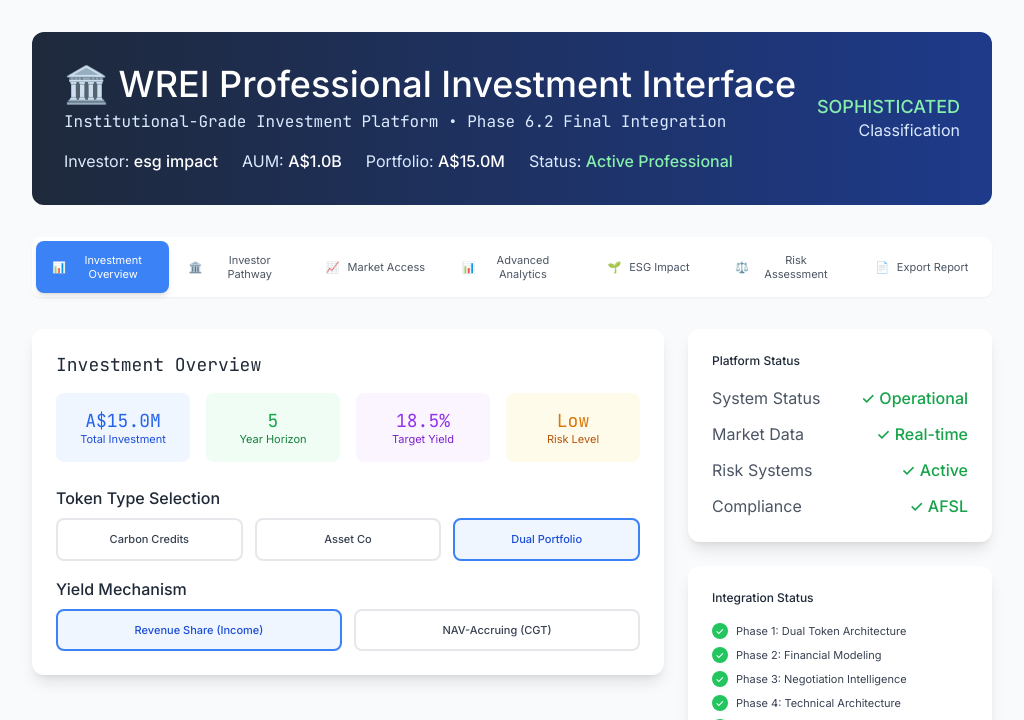
Test: Phase 6.2: UI Integration › investor pathway UI displays correctly for different classifications
What coordinates should you click on to do the following:
click the text "Investor Pathway"
I would click on:
 (250, 267)
Its box is [228, 253, 272, 281].
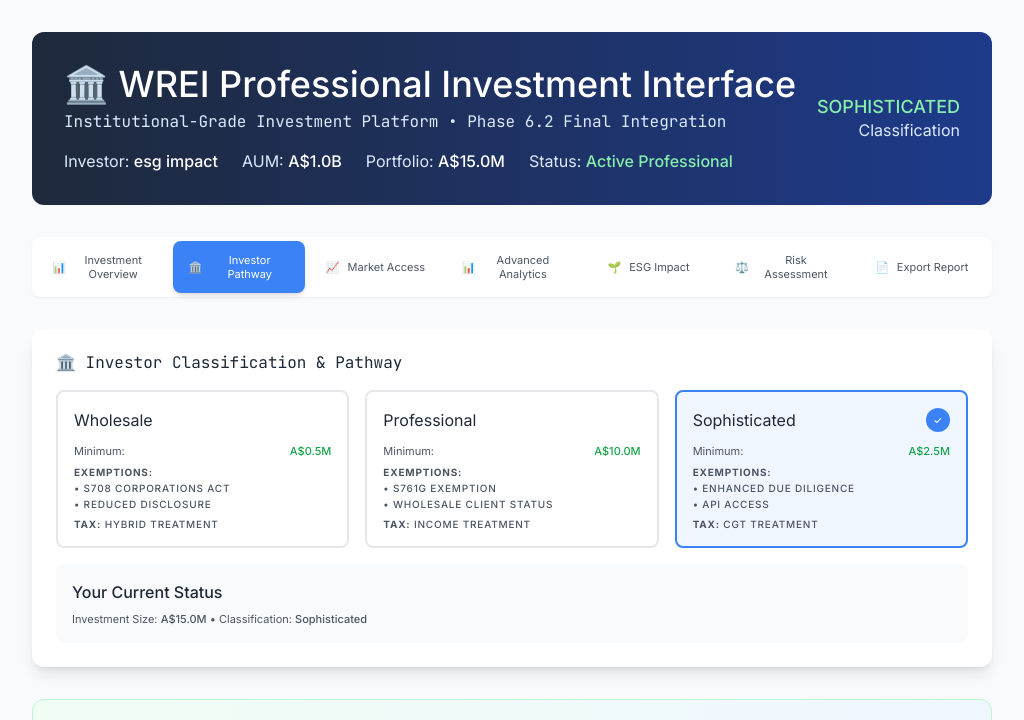
Expected: the heading "🏛️ WREI Professional Investment Interface" is shown, [64, 64, 796, 104]
Expected: the text "wholesale" is shown, [74, 408, 153, 432]
